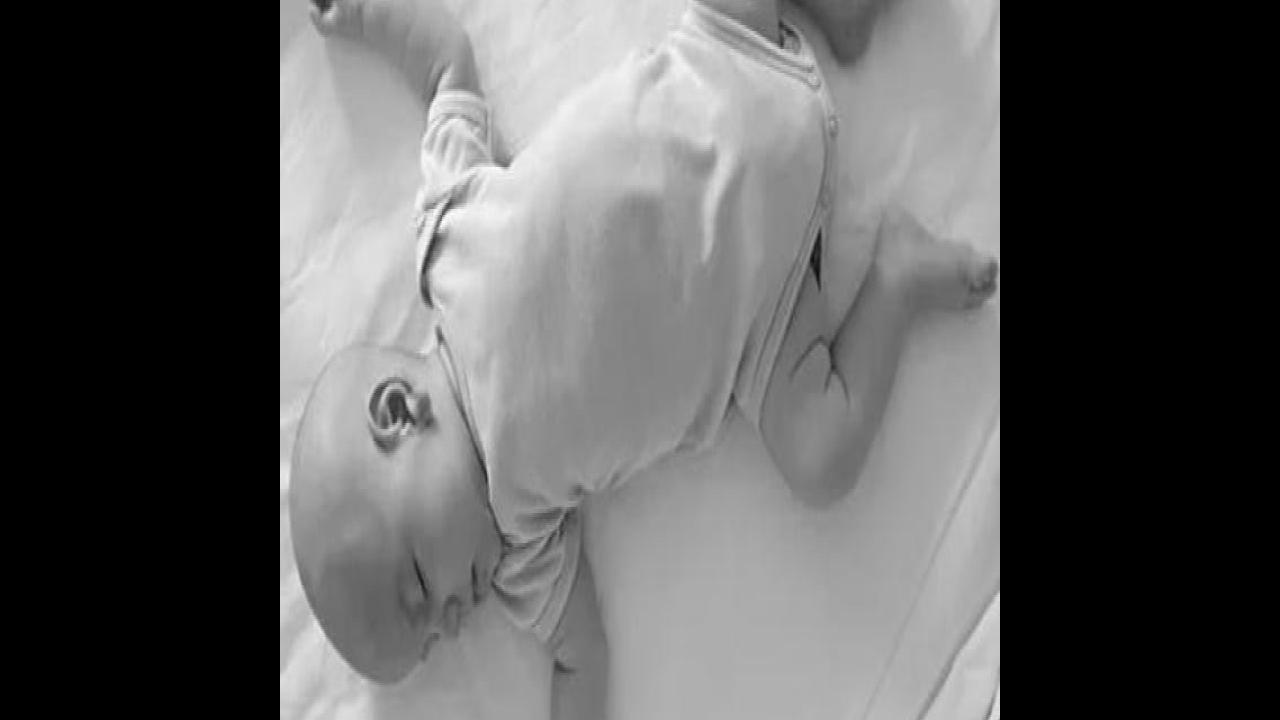hand: (308, 0, 368, 43)
